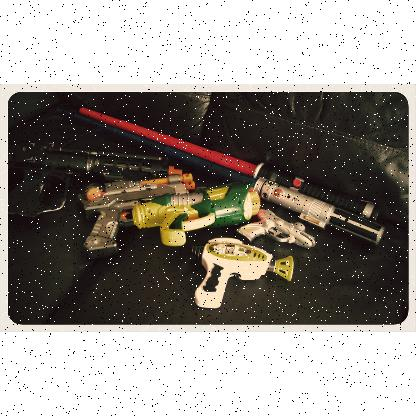gun: (7, 141, 315, 307)
